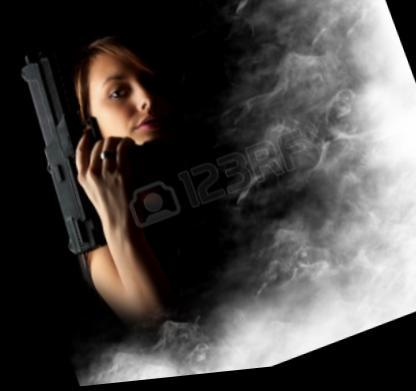pistol: (3, 19, 171, 264)
